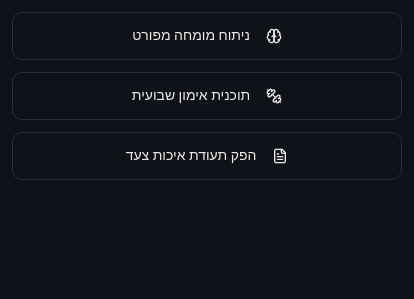
Test: AIActionButtons › calls expert analysis on click
This screenshot has width=414, height=299.
Click the button "ניתוח מומחה מפורט".
click(207, 36)  # box [12,12,402,60]
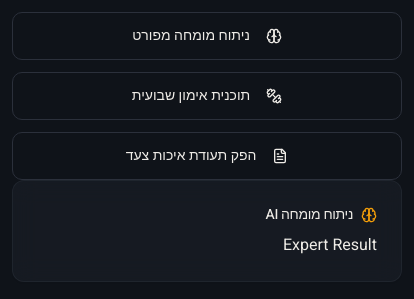
Expected: the text "ניתוח מומחה AI" is shown, [266,204,377,225]
